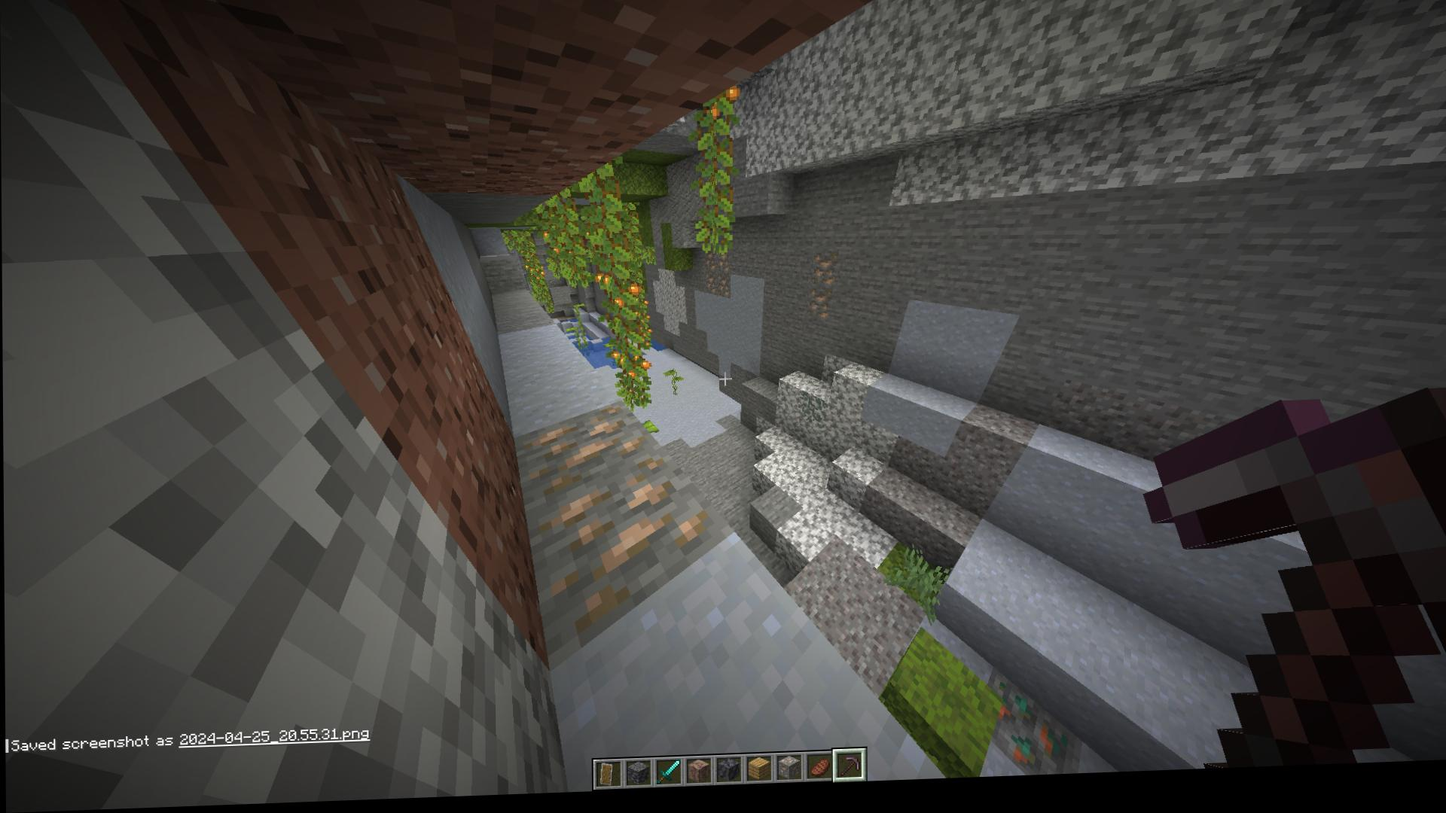iron ore: (532, 471, 703, 629), (522, 412, 640, 495), (811, 259, 839, 293), (807, 294, 833, 326), (705, 277, 732, 305), (705, 254, 731, 278)
